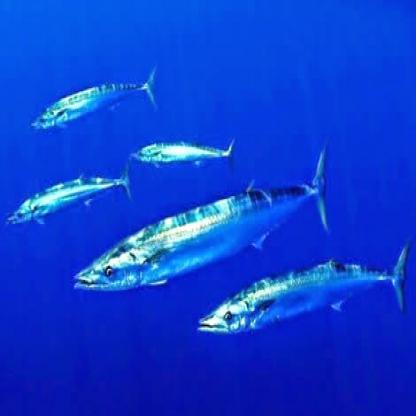tuna: (70, 133, 334, 294), (190, 234, 413, 337), (5, 160, 134, 234), (30, 60, 165, 128), (127, 131, 240, 176)
